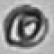correct: (3, 4, 50, 50)
